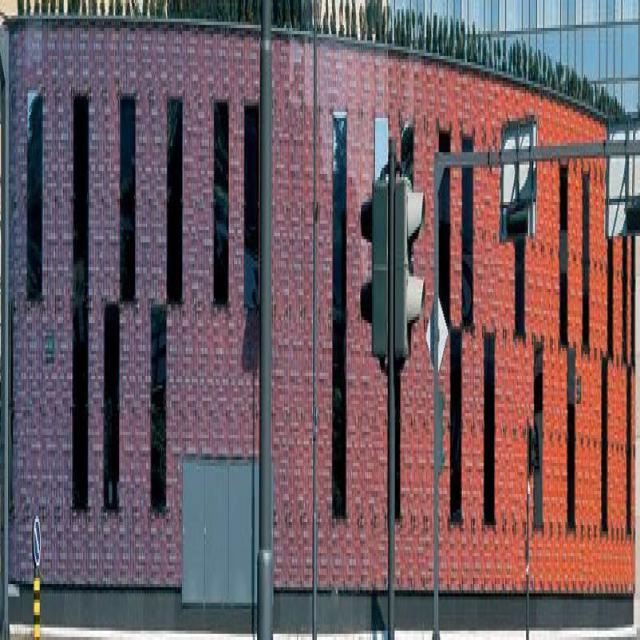wall: (4, 15, 635, 637)
windows: (70, 97, 89, 512), (331, 113, 348, 528), (150, 299, 167, 515), (168, 96, 184, 304), (104, 307, 120, 511), (120, 98, 136, 302), (246, 97, 260, 309), (28, 86, 42, 296), (482, 331, 496, 526), (215, 98, 228, 304), (450, 327, 463, 528), (439, 131, 451, 328), (463, 131, 473, 331), (534, 338, 544, 529), (559, 163, 569, 350), (581, 172, 591, 357), (567, 348, 576, 540), (600, 357, 608, 542), (514, 242, 525, 337), (627, 368, 632, 541), (607, 242, 614, 363), (622, 240, 627, 362)
